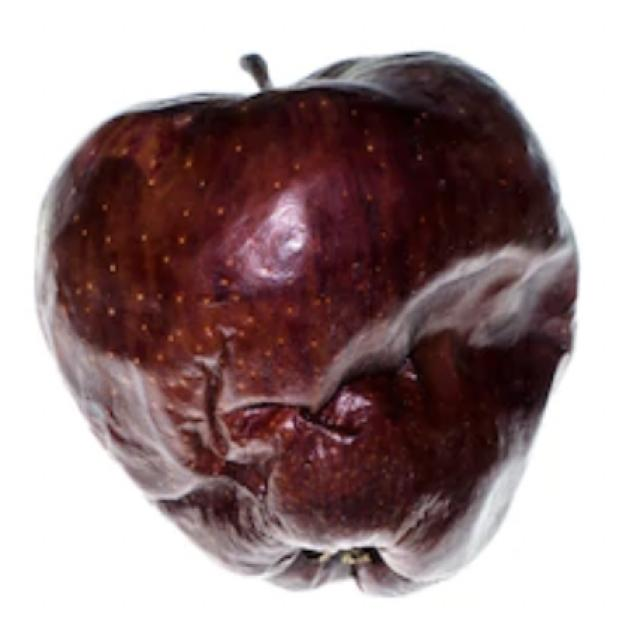rotten_apple: (41, 45, 584, 589)
